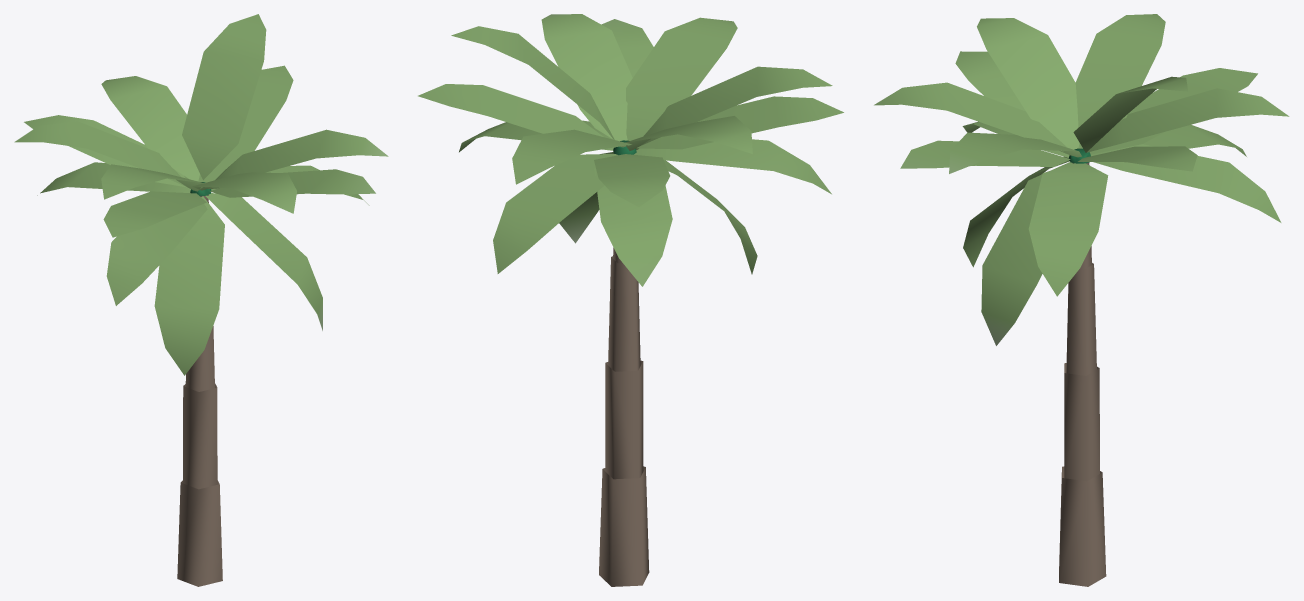
The model's file is palm1-lod1.glb.
3 renders of one model, left to right at view 1: azimuth 30°, elevation 25°; view 2: azimuth 150°, elevation 25°; view 3: azimuth 270°, elevation 25°, orthographic. The views are drawn at different scales.
Parts seen in each view (by area): view 1: palm1-lod1; view 2: palm1-lod1; view 3: palm1-lod1.
Part boxes in pixels (left/top/right/bottom): palm1-lod1: left=14, top=14, right=388, bottom=586; palm1-lod1: left=418, top=14, right=843, bottom=586; palm1-lod1: left=874, top=14, right=1289, bottom=586.
Bounding box in the file's own units: 8.59 × 13.14 × 9.16.
